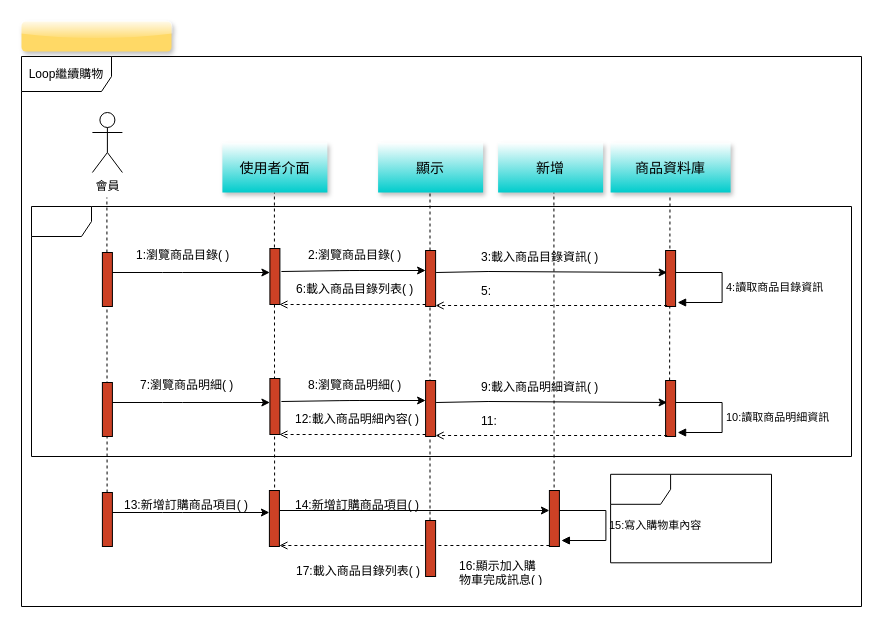
Image size: 879x624. Some labels were removed from this diagram. The shapes that lost their labels are listed below. From the top down, each one's centre as x and y in pixels, then its label:
At [97,37]: "商品訂購之AC循序圖".
At [441,331]: "opt".
At [691,518]: "ref".
